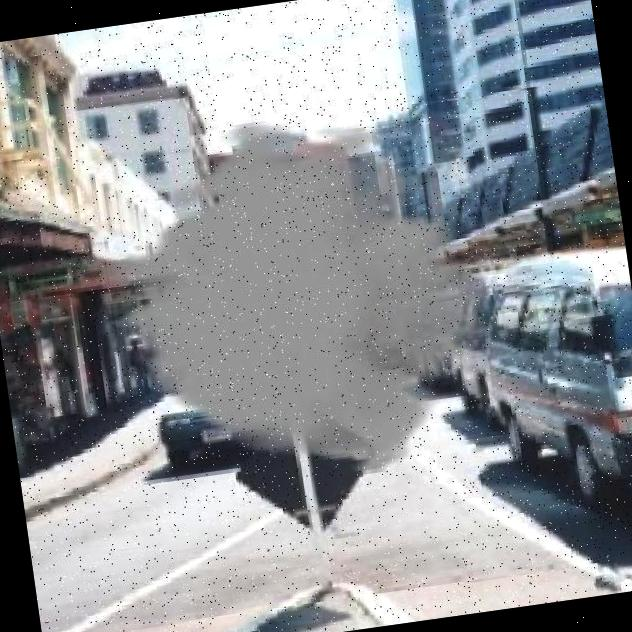smoke: (105, 114, 494, 495)
